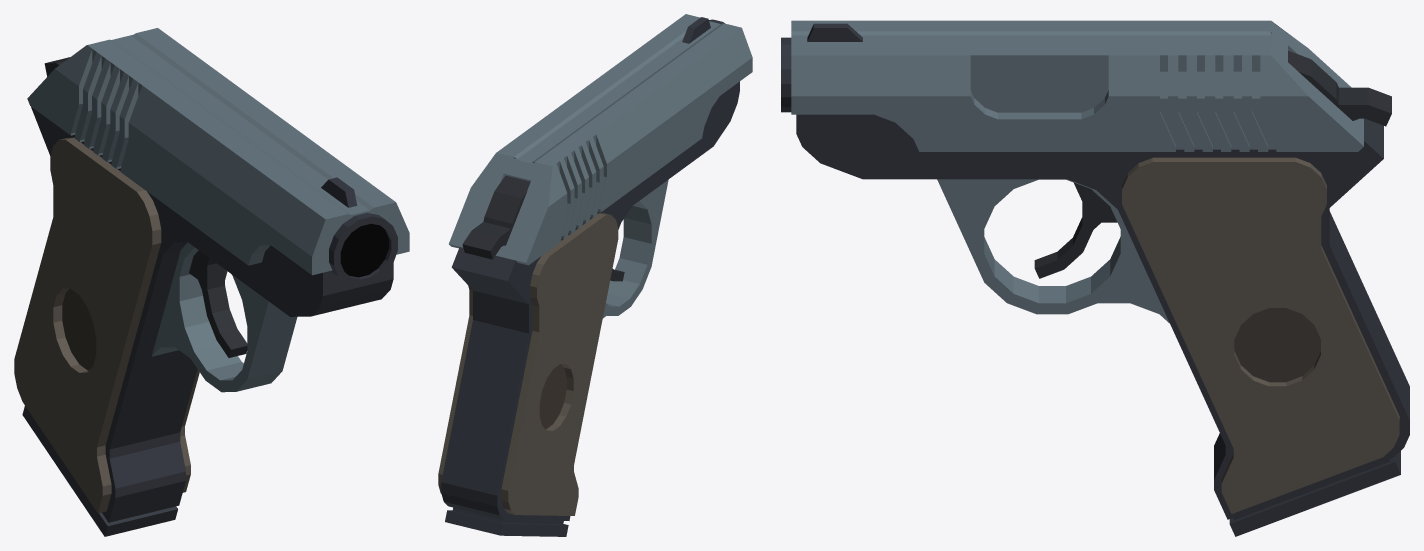
Rendered from pistol.obj.
3 views of the same model, side by side, from view 1: azimuth 30°, elevation 25°; view 2: azimuth 150°, elevation 25°; view 3: azimuth 270°, elevation 25° (orthographic). The views are drawn at different scales.
Parts seen in each view (by area): view 1: cube; view 2: cube; view 3: cube.
Boxes of the visible parts, x1,y1,x2,y2 form: cube: [14, 28, 409, 536]; cube: [438, 14, 752, 536]; cube: [781, 20, 1409, 536].
Bounding box in the file's own units: 2.77 × 13.3 × 15.35.
